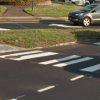Crosswalk: (11, 42, 99, 77)
